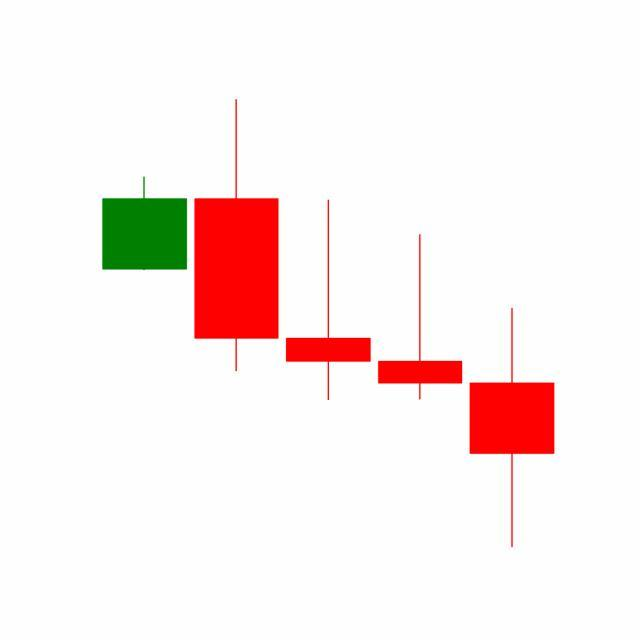Spinning Top: (466, 306, 559, 552)
